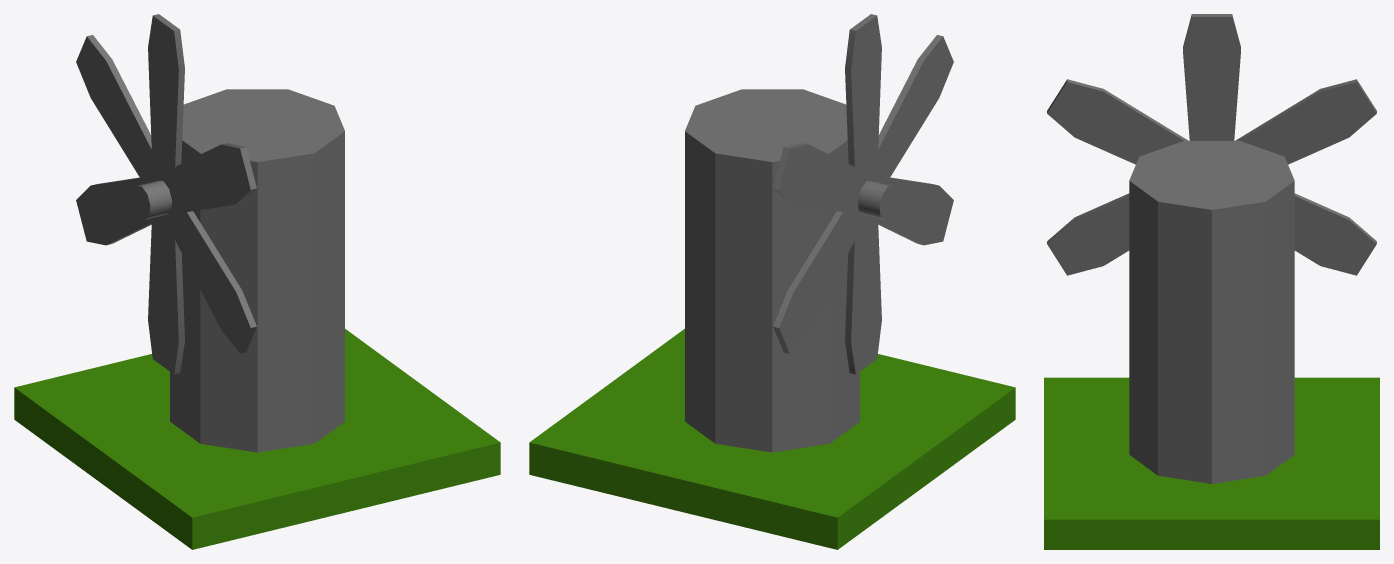
The model's file is Farm3.obj.
3 views of the same model, side by side, from view 1: azimuth 30°, elevation 25°; view 2: azimuth 150°, elevation 25°; view 3: azimuth 270°, elevation 25° (orthographic). The views are drawn at different scales.
Visible parts, largest first — view 1: Tilebase110, Cylinder044, Box713, Box711, Box710, Box714, Box712, Box709, Cylinder045; view 2: Tilebase110, Cylinder044, Box713, Box709, Box710, Box712, Box714, Box711, Cylinder045; view 3: Cylinder044, Tilebase110, Box713, Box712, Box714, Box711, Box709.
Part boxes in pixels (x1,y1,x2,y2): Tilebase110: (14,329,500,549); Cylinder044: (170,89,344,452); Box713: (148,14,184,191); Box711: (168,191,256,353); Box710: (148,211,184,374); Box714: (76,35,162,183); Box712: (166,143,256,213); Box709: (76,176,162,245); Cylinder045: (133,180,171,219); Tilebase110: (529,329,1015,549); Cylinder044: (685,89,859,452); Box713: (845,14,881,191); Box709: (773,192,858,353); Box710: (845,211,881,374); Box712: (866,35,953,183); Box714: (773,143,860,213); Box711: (866,176,953,245); Cylinder045: (858,180,896,219); Cylinder044: (1129,141,1294,483); Tilebase110: (1044,377,1379,549); Box713: (1183,14,1240,140); Box712: (1047,79,1188,164); Box714: (1235,79,1376,164); Box711: (1047,193,1129,275); Box709: (1294,193,1376,275).
Bounding box in the file's own units: 10 × 13.85 × 10.
